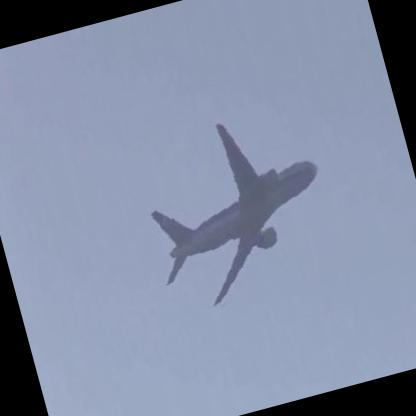plane: (116, 90, 351, 330)
